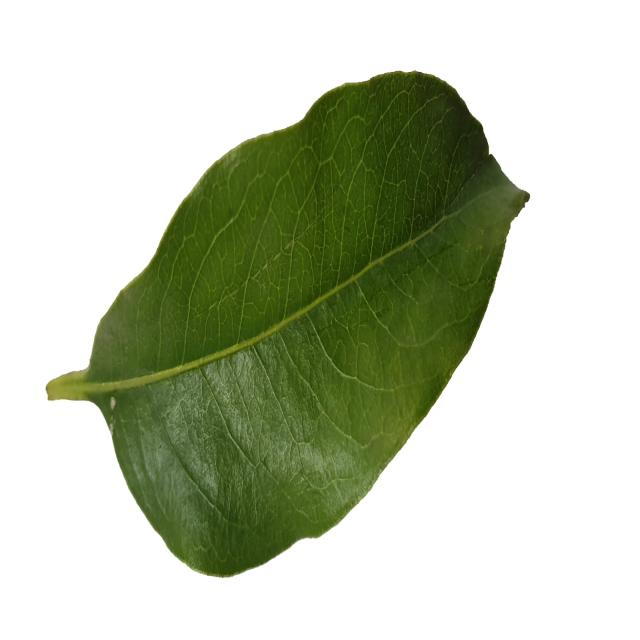Medicinal-Sandalwood: (46, 69, 529, 578)
